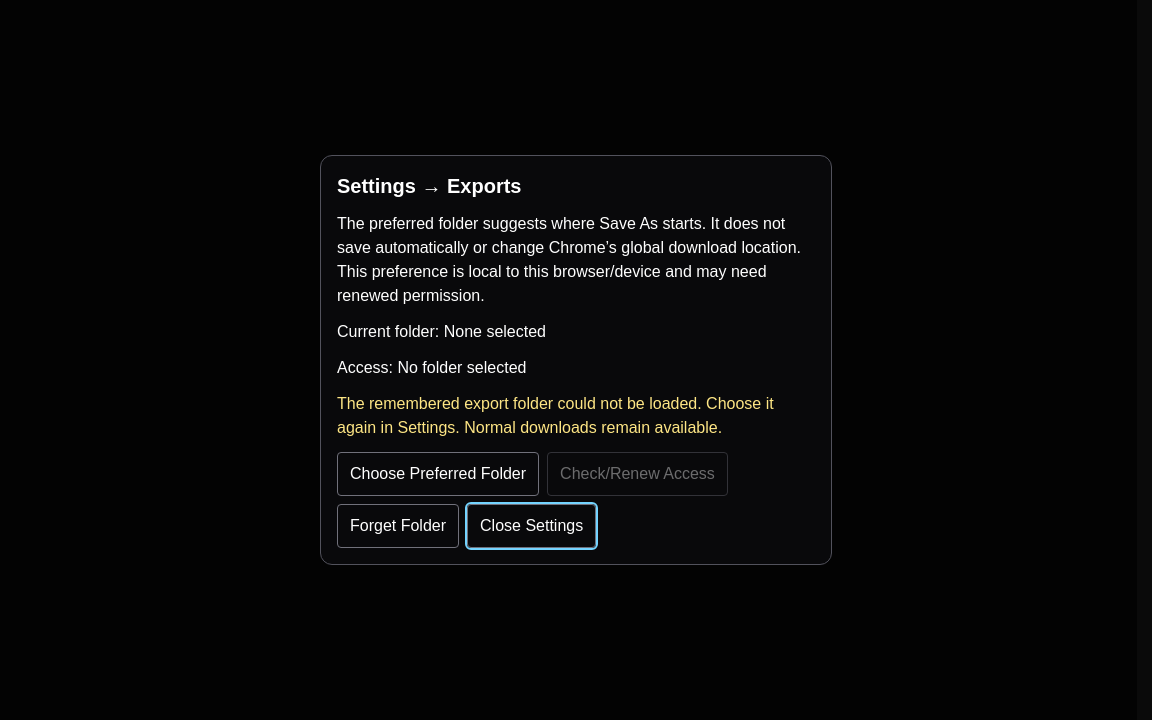
Test: allows forgetting an unreadable preference even when no usable handle can be loaded
Expected: the text "could not be loaded" is shown, [337,395,774,436]
Click the button "Forget Folder" at {"x": 398, "y": 526}, box [337,504,459,548]
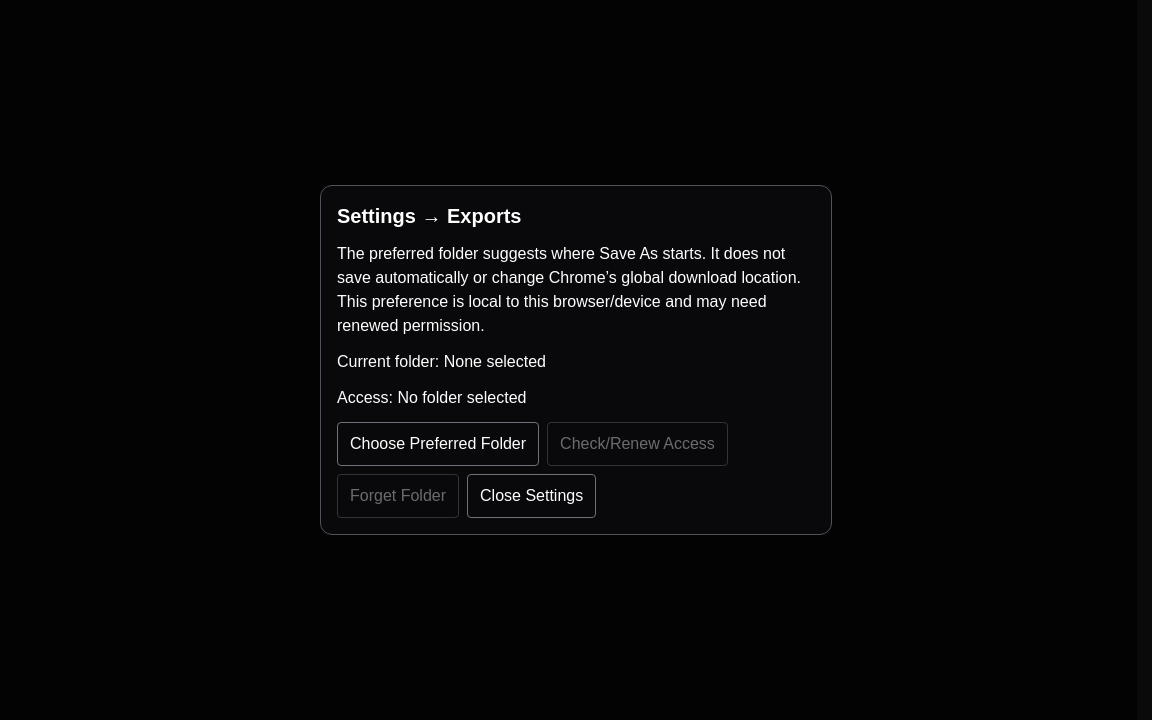
Now the text "could not be loaded" is gone
